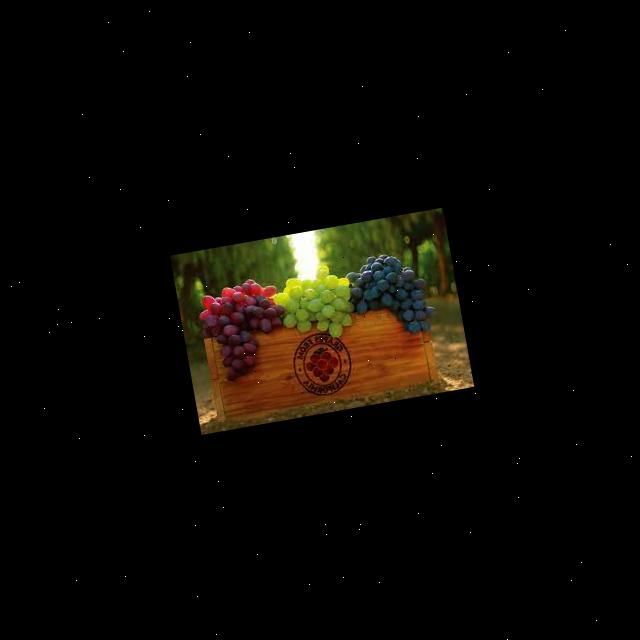grape: (192, 272, 292, 383), (340, 244, 438, 343), (268, 258, 358, 346)
